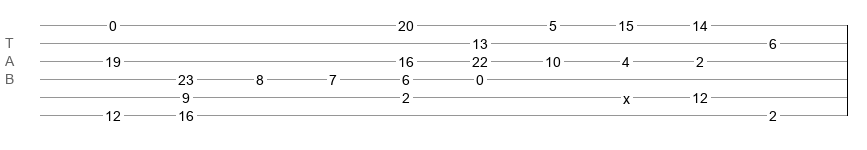0: (109, 18, 117, 28), (476, 72, 484, 82)
10: (545, 54, 561, 64)
12: (105, 108, 121, 118), (692, 90, 708, 100)
13: (472, 36, 488, 46)
14: (692, 18, 708, 28)
15: (618, 18, 634, 28)
16: (178, 108, 194, 118), (398, 54, 414, 64)
19: (105, 54, 121, 64)
2: (402, 90, 410, 100), (696, 54, 704, 64), (769, 108, 777, 118)
20: (398, 18, 414, 28)
22: (472, 54, 488, 64)
23: (178, 72, 194, 82)
4: (622, 54, 630, 64)
5: (549, 18, 557, 28)
6: (402, 72, 410, 82), (769, 36, 777, 46)
7: (329, 72, 337, 82)
8: (256, 72, 264, 82)
9: (182, 90, 190, 100)
x: (623, 91, 630, 99)
